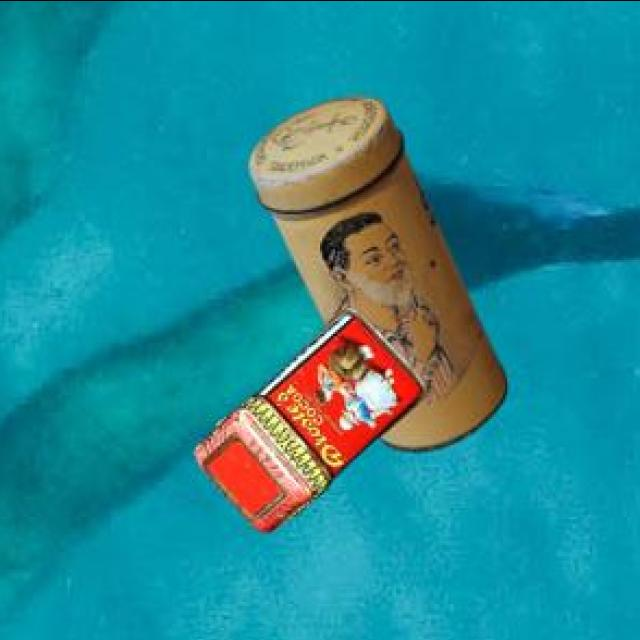logam: (254, 93, 510, 447), (199, 304, 430, 528)
